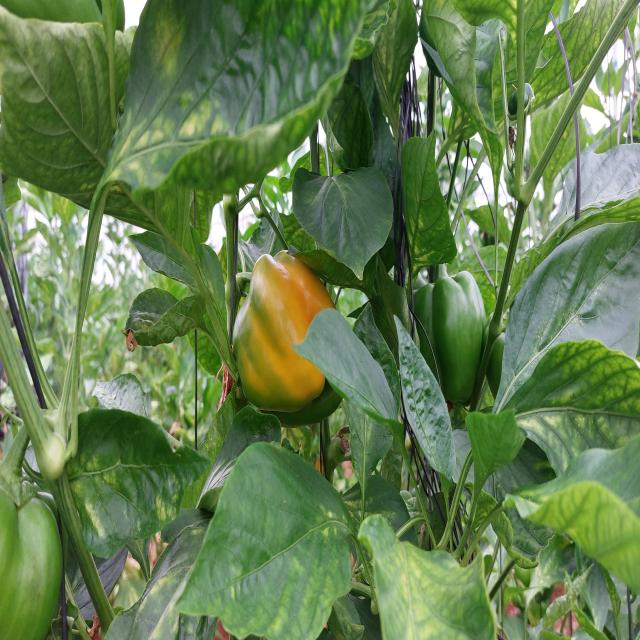Green--Not-ready-to-harvest: (424, 266, 520, 430)
GreenishYellow--Can-be-Harvested: (224, 248, 343, 413)
